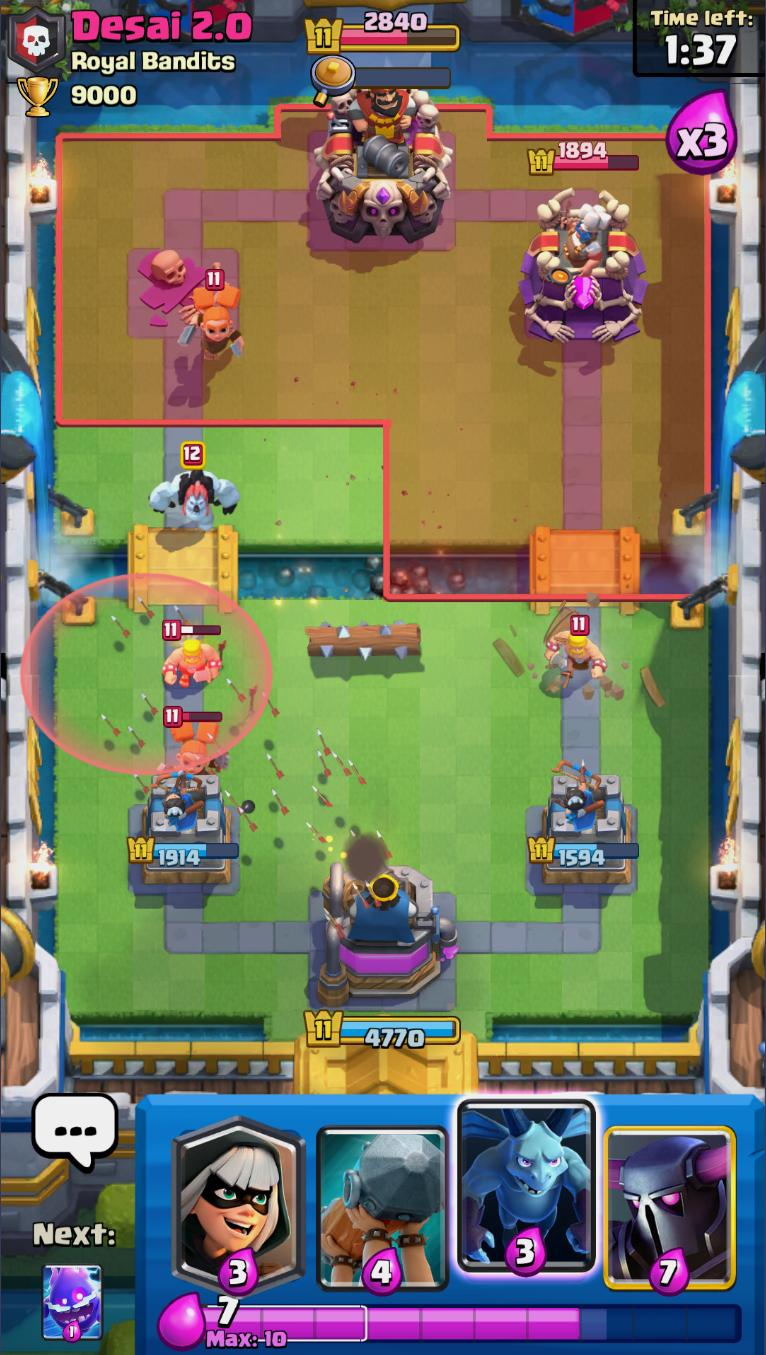Arrows: (20, 572, 274, 772)
BanditDeck: (165, 1095, 314, 1296)
Barbarian: (542, 615, 611, 685), (160, 619, 223, 688)
BattleRamDeck: (310, 1095, 455, 1299)
Berserker: (176, 271, 247, 367), (159, 705, 232, 783)
Chef: (552, 199, 618, 273)
ElectroSpiritNext: (38, 1260, 105, 1341)
Elixir: (203, 1293, 748, 1351)
EnemyTower: (516, 186, 651, 346)
EnemyTowerBrocken: (128, 244, 242, 344)
IceGolem: (148, 442, 239, 533)
KingTower: (310, 85, 456, 241)
KingTowerHP: (302, 10, 463, 56)
Log: (303, 618, 423, 669)
MinionsDeck: (450, 1096, 604, 1298)
MyKingHP: (301, 1006, 463, 1053)
MyKingTower: (315, 856, 460, 1008)
MyPrincessTower: (126, 766, 238, 891), (539, 771, 638, 889)
MyPrincessTowerHP: (525, 832, 642, 870), (126, 835, 243, 868)
PekkaDeck: (599, 1098, 744, 1296)
TowerPrincessHP: (528, 138, 641, 178)
